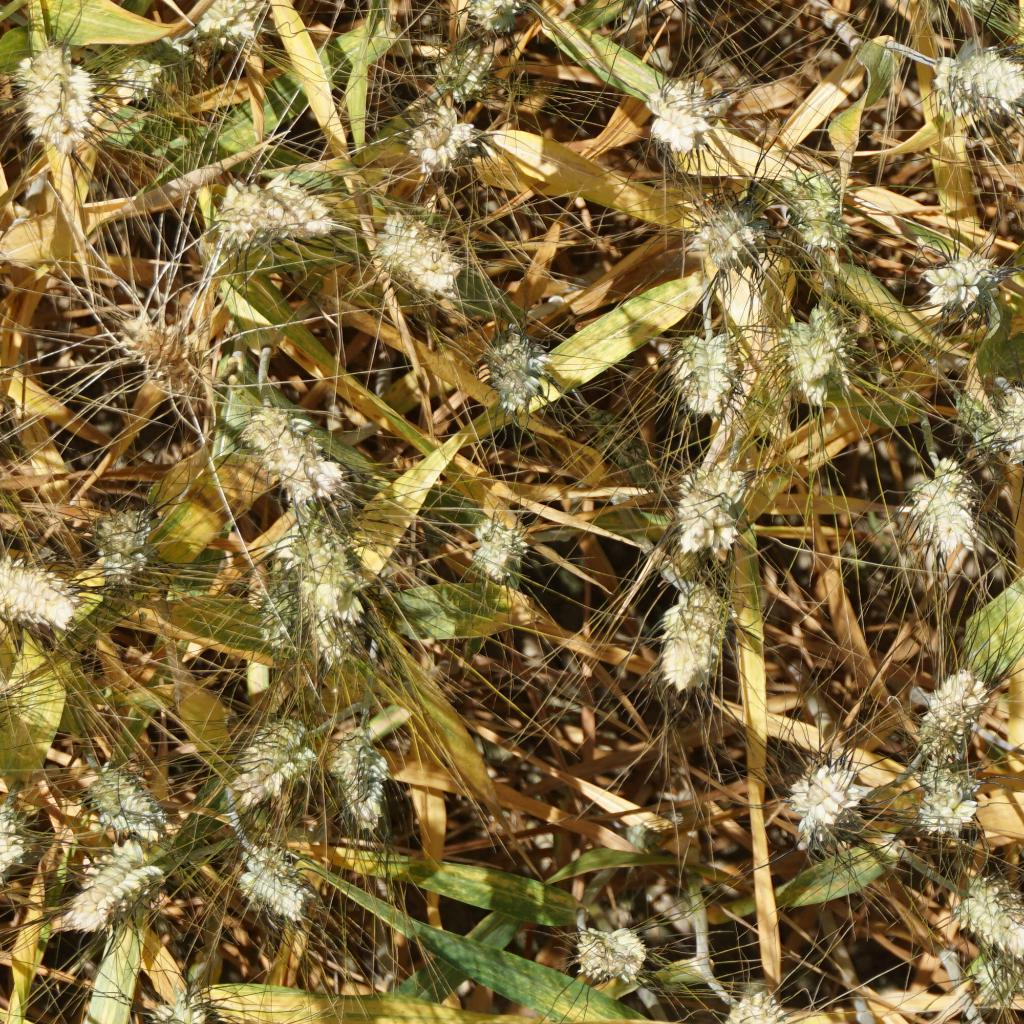0-0: (239, 403, 352, 502), (905, 451, 987, 566), (371, 206, 464, 303), (304, 523, 374, 649), (219, 173, 328, 251), (72, 843, 164, 932), (649, 581, 723, 689), (323, 729, 391, 846), (786, 303, 863, 405), (12, 38, 89, 139), (228, 713, 312, 803), (119, 304, 210, 387), (679, 183, 763, 270), (261, 527, 312, 664), (83, 760, 172, 836), (234, 841, 320, 918), (678, 457, 742, 559), (940, 47, 1024, 124), (914, 665, 981, 759), (473, 315, 543, 402), (635, 73, 712, 150), (921, 239, 1002, 310), (0, 554, 75, 630), (567, 920, 654, 985), (958, 876, 1024, 961), (429, 44, 508, 113), (784, 162, 841, 256), (792, 752, 851, 840), (684, 328, 742, 415), (91, 499, 147, 584), (917, 766, 978, 835), (473, 517, 533, 581), (96, 48, 162, 105), (197, 0, 272, 48), (969, 944, 1024, 1001), (416, 108, 469, 164), (992, 385, 1024, 472), (728, 981, 786, 1024), (914, 0, 996, 25), (0, 804, 29, 868), (462, 0, 523, 29)
